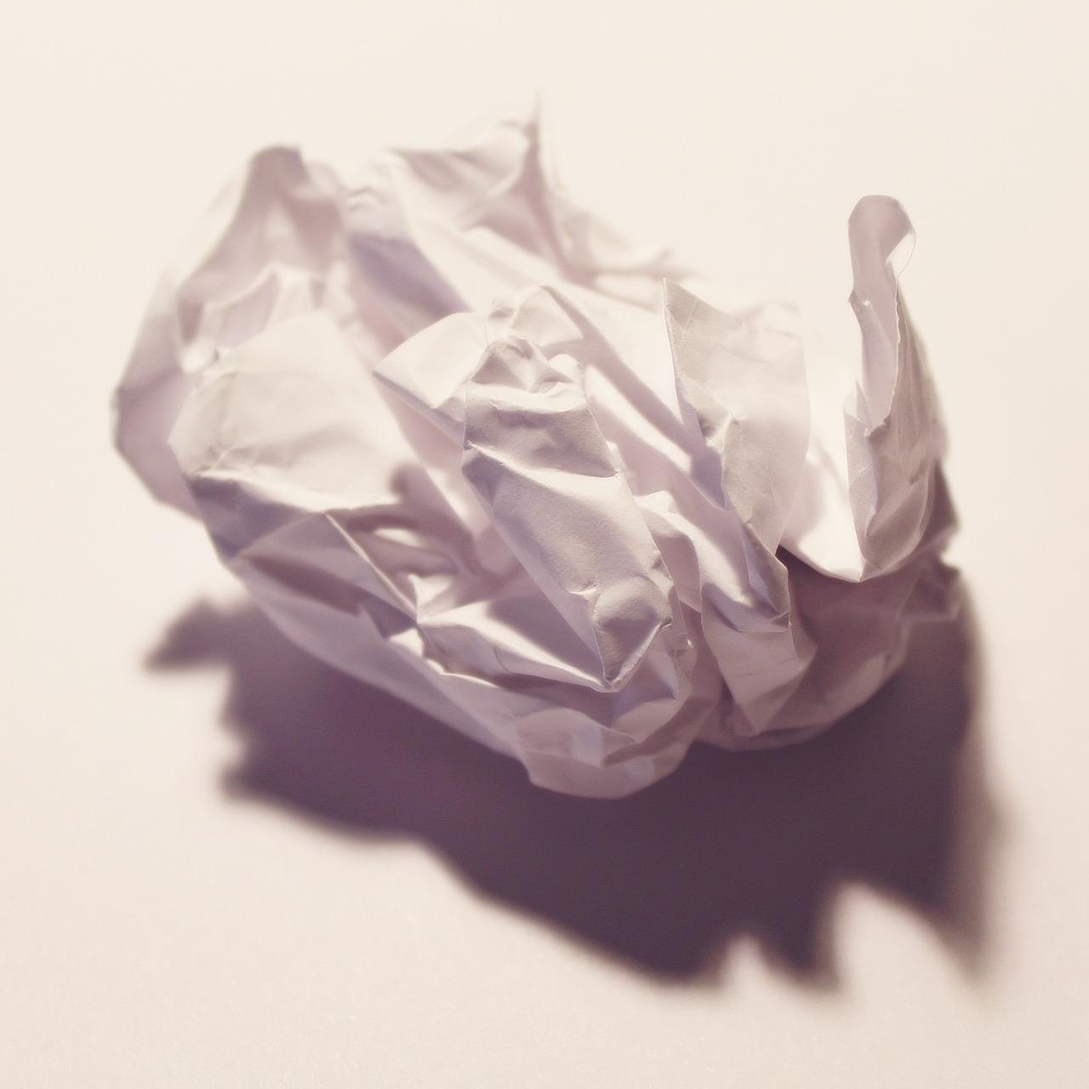Paper: (113, 115, 973, 781)
